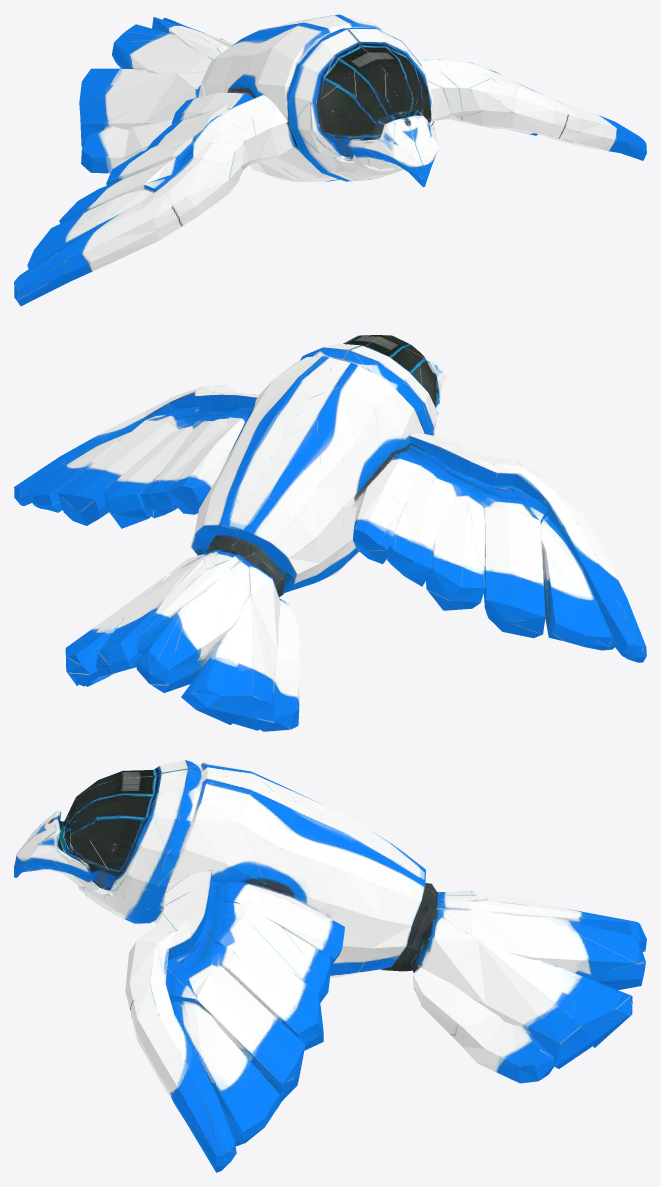
Rendered from dove3.glb.
3 renders of one model, top to bottom at view 1: azimuth 30°, elevation 25°; view 2: azimuth 150°, elevation 25°; view 3: azimuth 270°, elevation 25°, orthographic. The views are drawn at different scales.
Bounding box in the file's own units: 2 × 0.7277 × 1.6.
1 material, 1 textured.
